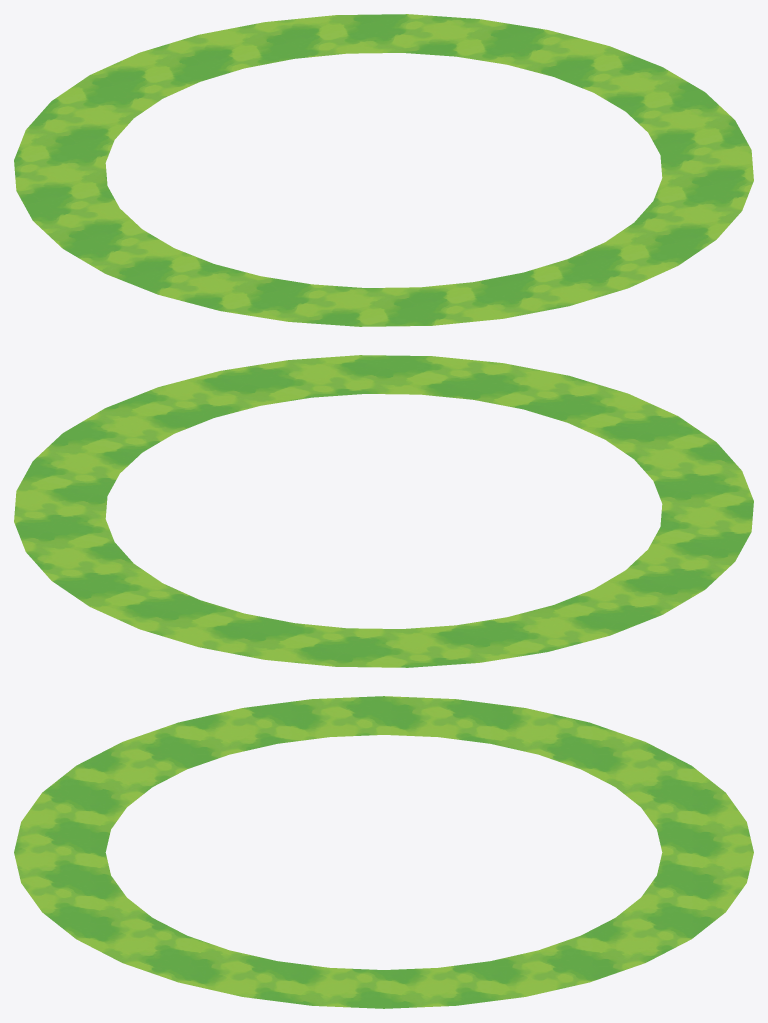
Rendered from OuterFloor.glb.
3 renders of one model, top to bottom at view 1: azimuth 30°, elevation 25°; view 2: azimuth 150°, elevation 25°; view 3: azimuth 270°, elevation 25°, orthographic.
Visible parts, largest first — view 1: OuterFloor; view 2: OuterFloor; view 3: OuterFloor.
Part boxes in pixels (x1=…): OuterFloor: x1=14, y1=14, x2=753, y2=326; OuterFloor: x1=14, y1=355, x2=753, y2=667; OuterFloor: x1=14, y1=696, x2=753, y2=1008.
Size of what is drawn, in the model's own units: 38.69 by 0 by 38.69.
Materials: 1 (1 with a texture image).
